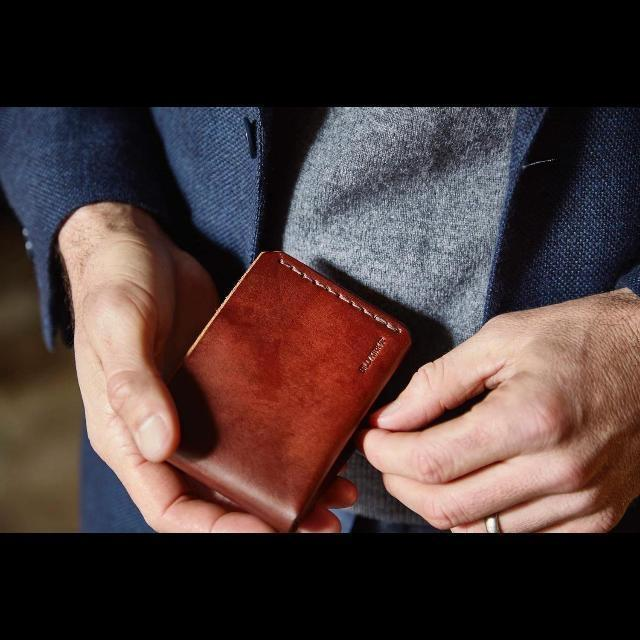Wallet: (170, 252, 410, 532)
